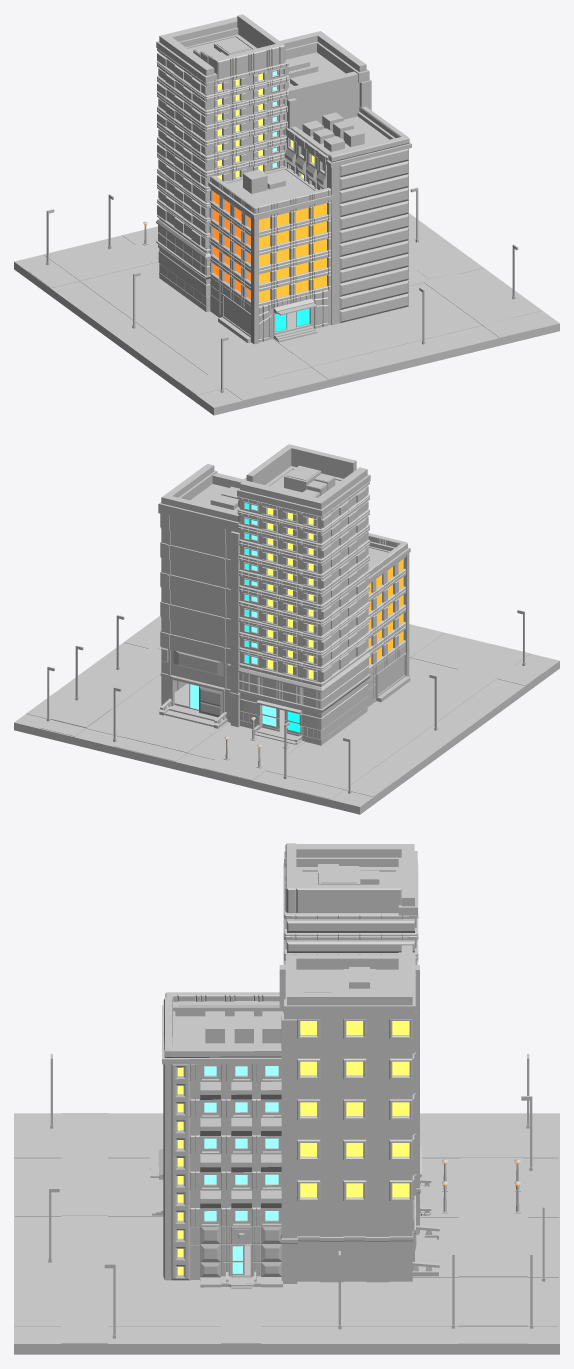
File: buildings.glb
The picture shows the model from 3 angles, top to bottom: view 1: azimuth 30°, elevation 25°; view 2: azimuth 150°, elevation 25°; view 3: azimuth 270°, elevation 25°; orthographic projection. The views are drawn at different scales.
Parts seen in each view (by area): view 1: Cube; view 2: Cube; view 3: Cube.
Boxes of the visible parts, x1,y1,x2,y2 form: Cube: [14, 14, 559, 415]; Cube: [14, 444, 559, 814]; Cube: [14, 843, 559, 1354].
Bounding box in the file's own units: 2.77 × 1.96 × 2.77.
